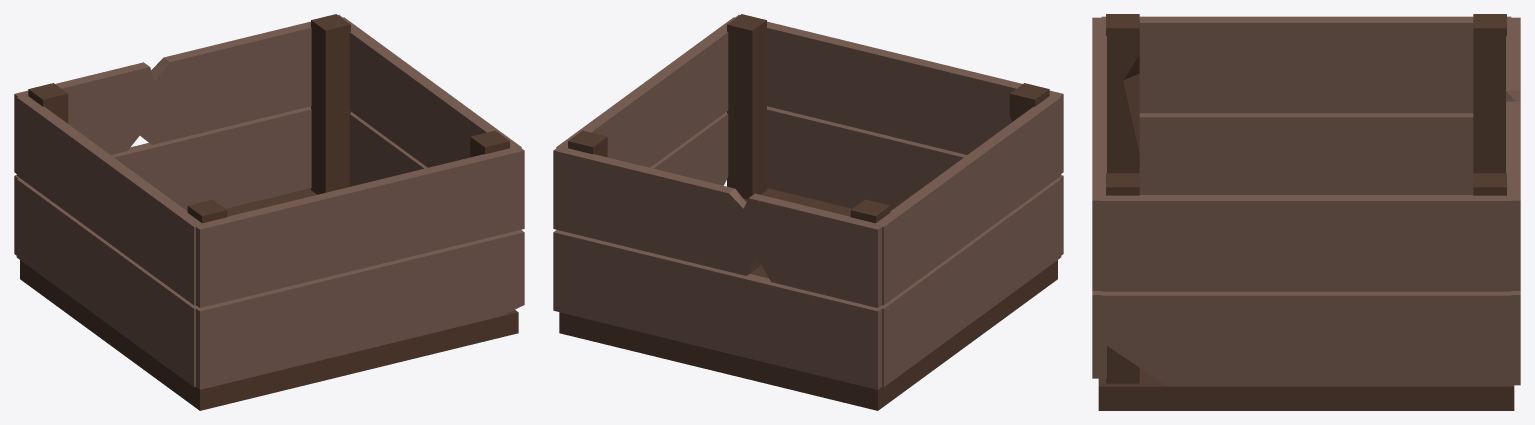
The picture shows the model from 3 angles, left to right: view 1: azimuth 30°, elevation 25°; view 2: azimuth 150°, elevation 25°; view 3: azimuth 270°, elevation 25°; orthographic projection. The views are drawn at different scales.
Parts seen in each view (by area): view 1: Box 2; view 2: Box 2; view 3: Box 2.
Part boxes in pixels (x1,y1,x2,y2): Box 2: (14,14,524,410); Box 2: (553,14,1063,410); Box 2: (1092,14,1520,410).
Bounding box in the file's own units: 0.8826 × 0.4919 × 0.8659.
